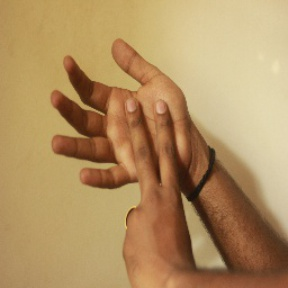N: (45, 34, 205, 253)
